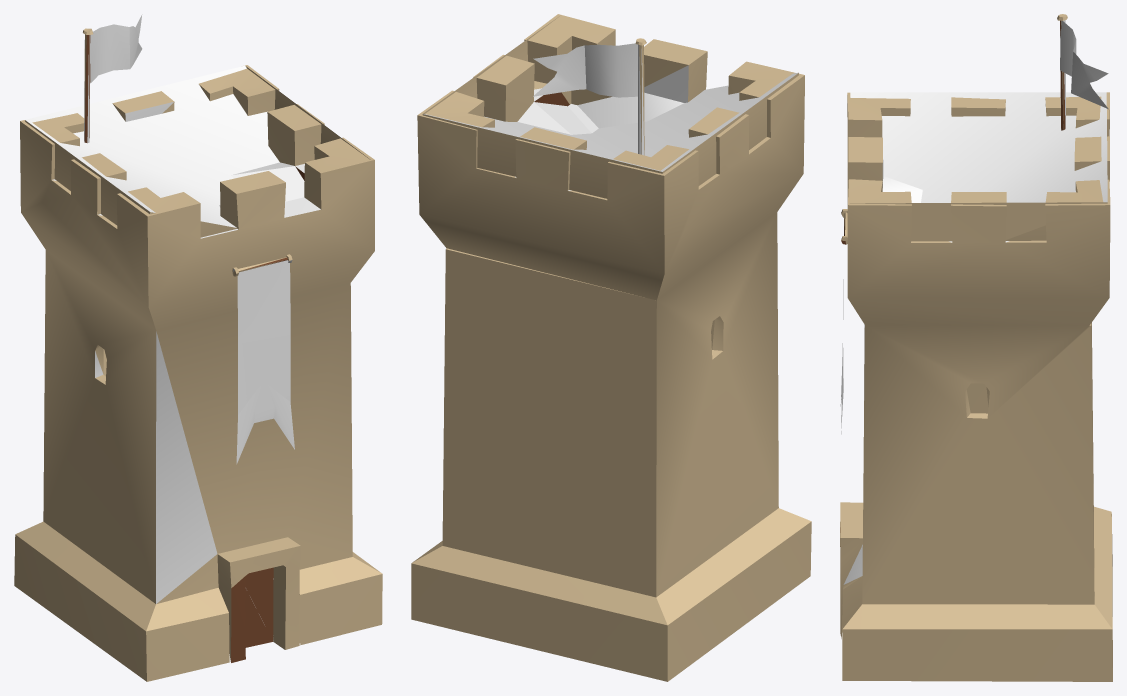
3 views of the same model, side by side, from view 1: azimuth 30°, elevation 25°; view 2: azimuth 150°, elevation 25°; view 3: azimuth 270°, elevation 25° (orthographic). The views are drawn at different scales.
Visible parts, largest first — view 1: base; view 2: base; view 3: base.
Part boxes in pixels (<box>): base: <box>14,14,382,681</box>; base: <box>411,14,811,681</box>; base: <box>840,14,1112,681</box>.
Bounding box in the file's own units: 1.9 × 4.3 × 1.86.
